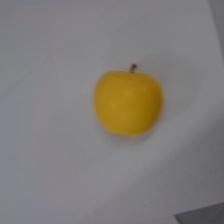yellow: (93, 64, 163, 136)
